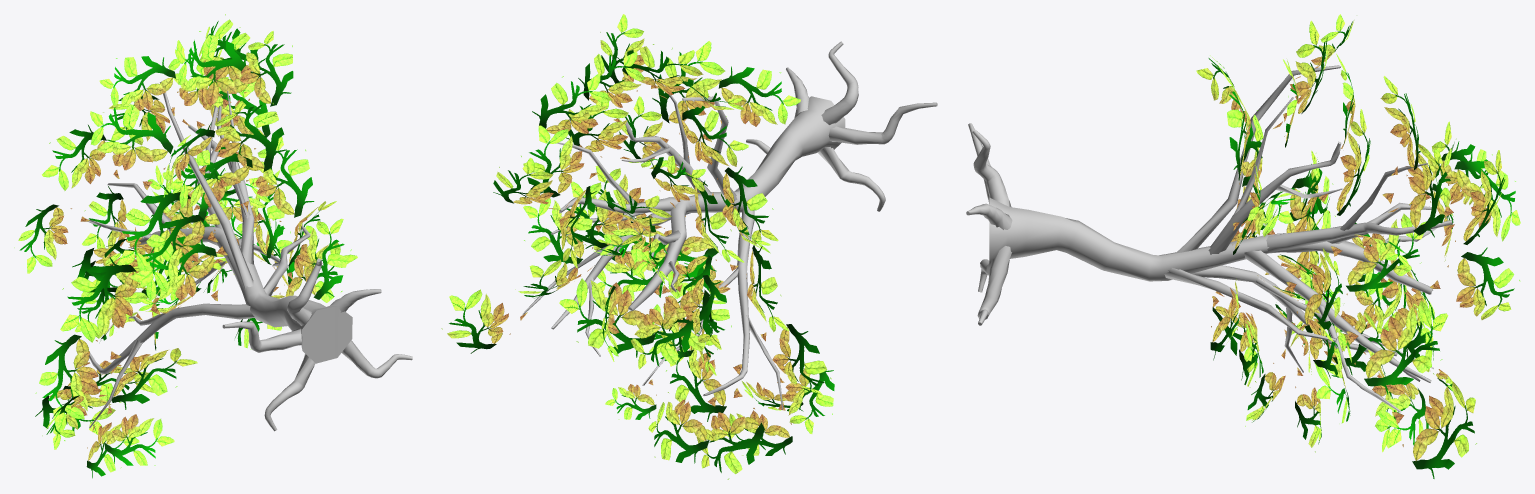
File: tree3.fbx
The picture shows the model from 3 angles, left to right: view 1: azimuth 30°, elevation 25°; view 2: azimuth 150°, elevation 25°; view 3: azimuth 270°, elevation 25°; orthographic projection. The views are drawn at different scales.
Visible parts, largest first — view 1: tree; view 2: tree; view 3: tree.
Boxes of the visible parts, x1,y1,x2,y2 form: tree: (14, 14, 412, 478); tree: (441, 14, 937, 479); tree: (966, 14, 1520, 478).
Bounding box in the file's own units: 564 × 526 × 439.
